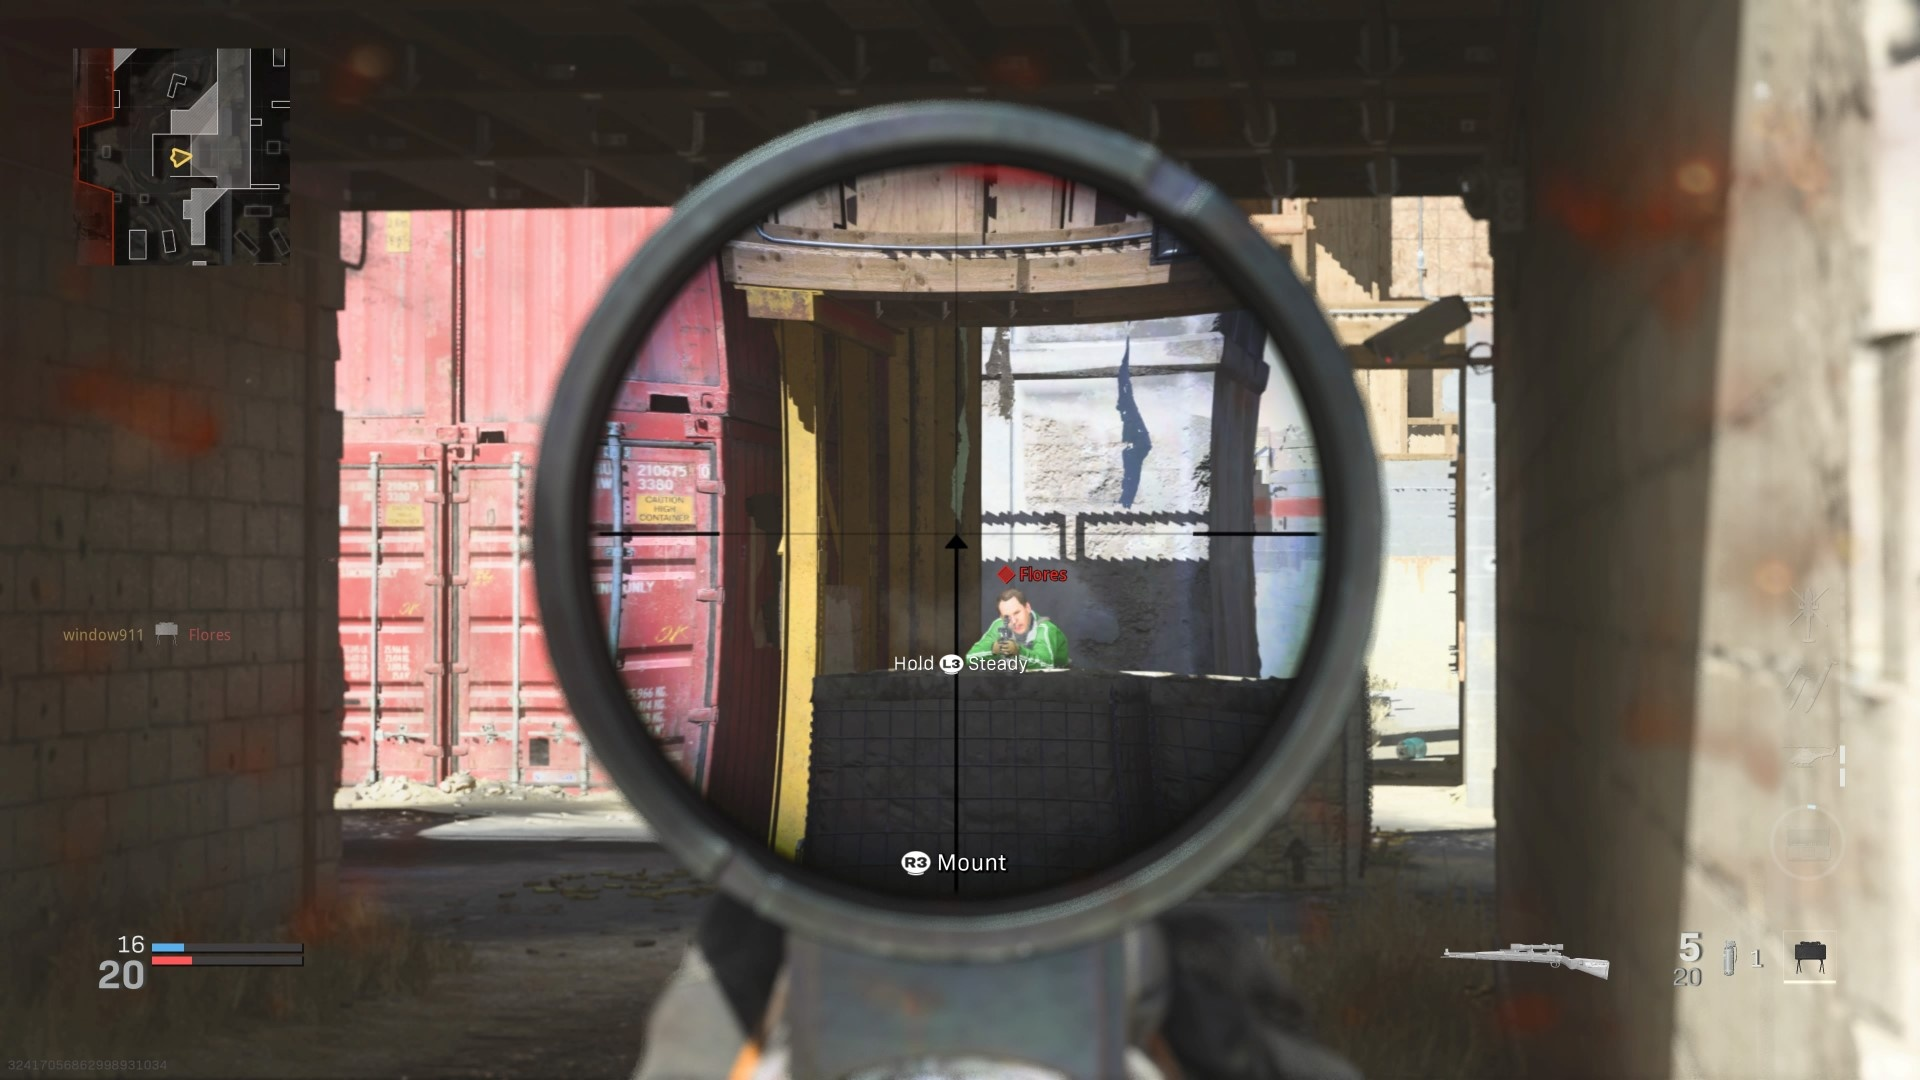head: (996, 587, 1034, 636)
person: (960, 582, 1067, 667)
